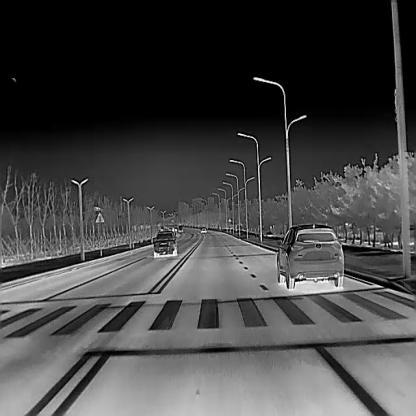car: (276, 221, 345, 289), (153, 229, 177, 257), (173, 223, 183, 232), (200, 226, 207, 233)
